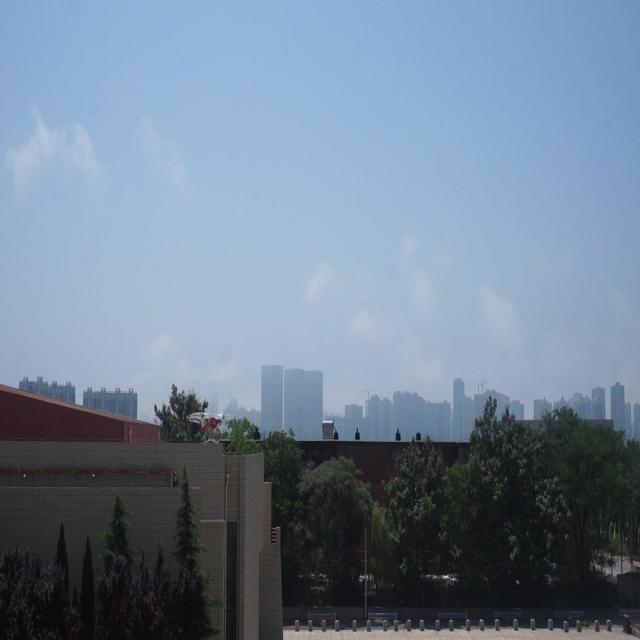UAV: (189, 412, 234, 445)
